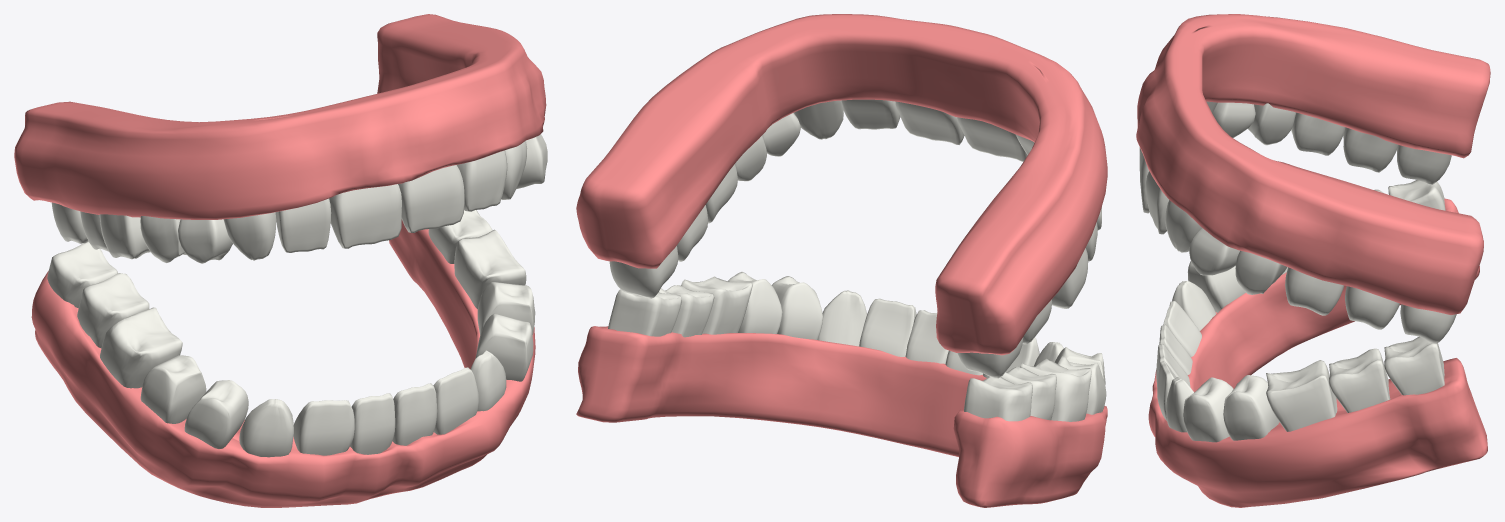
Rendered from teethOpen.gltf.
The picture shows the model from 3 angles, left to right: view 1: azimuth 30°, elevation 25°; view 2: azimuth 150°, elevation 25°; view 3: azimuth 270°, elevation 25°; orthographic projection. The views are drawn at different scales.
Parts seen in each view (by area): view 1: Box030, Box031, Box038, Box008, Box001, Box027, Box034, Box037, Box040, Box016, Box044, Box036 (+17 smaller); view 2: Box030, Box031, Box045, Box044, Box023, Box036, Box027, Box038, Box024, Box035, Box001, Box047 (+13 smaller); view 3: Box030, Box031, Box027, Box039, Box045, Box035, Box036, Box006, Box043, Box042, Box005, Box041 (+16 smaller).
Part boxes in pixels (bbox=[...]): Box030: bbox=[14, 14, 546, 219]; Box031: bbox=[31, 219, 535, 507]; Box038: bbox=[100, 307, 182, 388]; Box008: bbox=[329, 184, 401, 248]; Box001: bbox=[398, 165, 464, 232]; Box027: bbox=[454, 229, 526, 308]; Box034: bbox=[140, 355, 206, 423]; Box037: bbox=[184, 380, 248, 448]; Box040: bbox=[77, 273, 149, 348]; Box016: bbox=[293, 400, 354, 455]; Box044: bbox=[47, 241, 117, 308]; Box036: bbox=[475, 313, 533, 381]; Box030: bbox=[576, 14, 1107, 355]; Box031: bbox=[576, 326, 1107, 507]; Box045: bbox=[608, 289, 681, 336]; Box044: bbox=[964, 376, 1032, 421]; Box023: bbox=[859, 298, 916, 356]; Box036: bbox=[771, 276, 822, 339]; Box027: bbox=[681, 276, 752, 334]; Box038: bbox=[1020, 358, 1091, 421]; Box024: bbox=[818, 290, 867, 346]; Box035: bbox=[728, 272, 782, 333]; Box001: bbox=[895, 101, 964, 144]; Box047: bbox=[609, 246, 678, 298]; Box030: bbox=[1136, 14, 1490, 314]; Box031: bbox=[1148, 198, 1487, 507]; Box027: bbox=[1266, 360, 1337, 431]; Box039: bbox=[1329, 348, 1390, 412]; Box045: bbox=[1384, 336, 1444, 395]; Box035: bbox=[1223, 375, 1279, 440]; Box036: bbox=[1183, 377, 1233, 442]; Box006: bbox=[1285, 267, 1344, 315]; Box043: bbox=[1343, 127, 1397, 172]; Box042: bbox=[1291, 112, 1345, 155]; Box005: bbox=[1189, 228, 1239, 275]; Box041: bbox=[1345, 286, 1399, 329].
Size of the model in its own units: 3.7 by 3.32 by 2.77.
